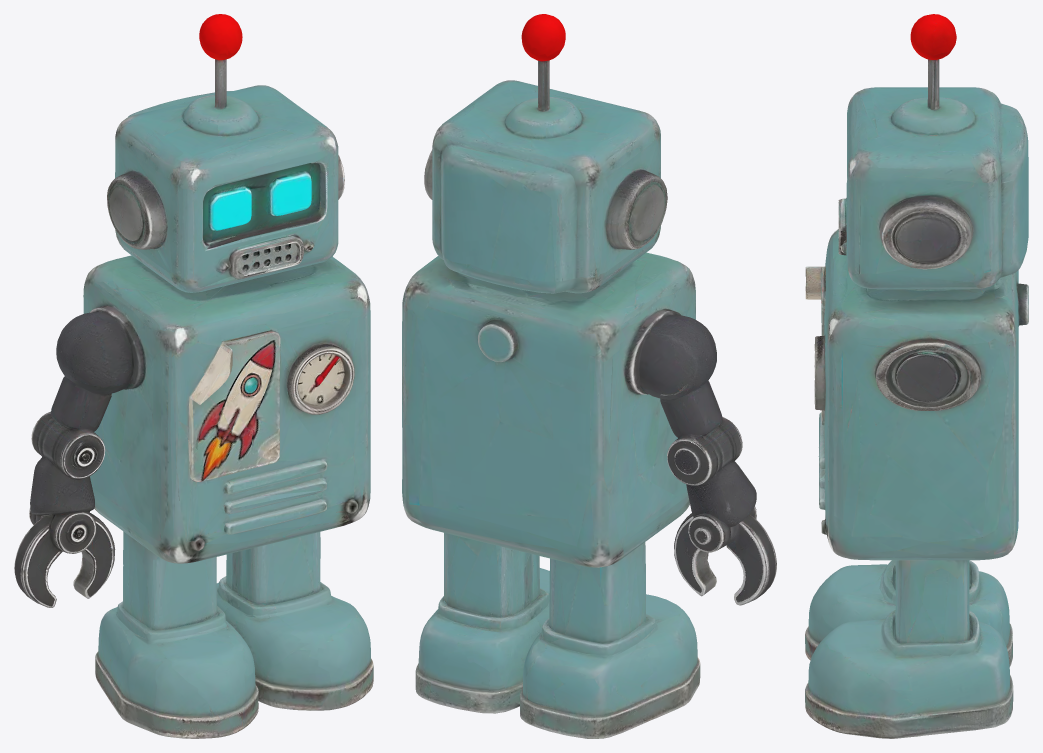
The model's file is gacha.glb.
The picture shows the model from 3 angles, left to right: view 1: azimuth 30°, elevation 25°; view 2: azimuth 150°, elevation 25°; view 3: azimuth 270°, elevation 25°; orthographic projection. The views are drawn at different scales.
Visible parts, largest first — view 1: Mesh_0; view 2: Mesh_0; view 3: Mesh_0.
Boxes of the visible parts, x1=… form: Mesh_0: x1=14, y1=14, x2=373, y2=738; Mesh_0: x1=402, y1=14, x2=776, y2=738; Mesh_0: x1=805, y1=14, x2=1028, y2=738.
Size of the model in its own units: 1 by 1.9 by 0.5788.
1 material, 1 textured.
